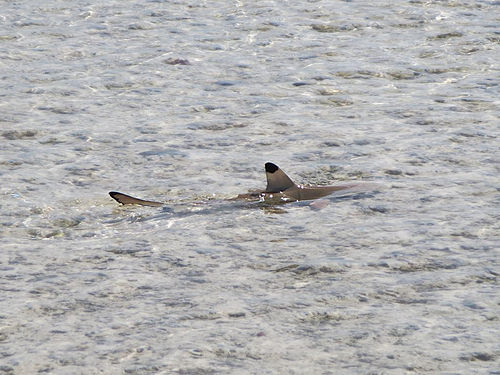shark: (85, 139, 400, 234)
